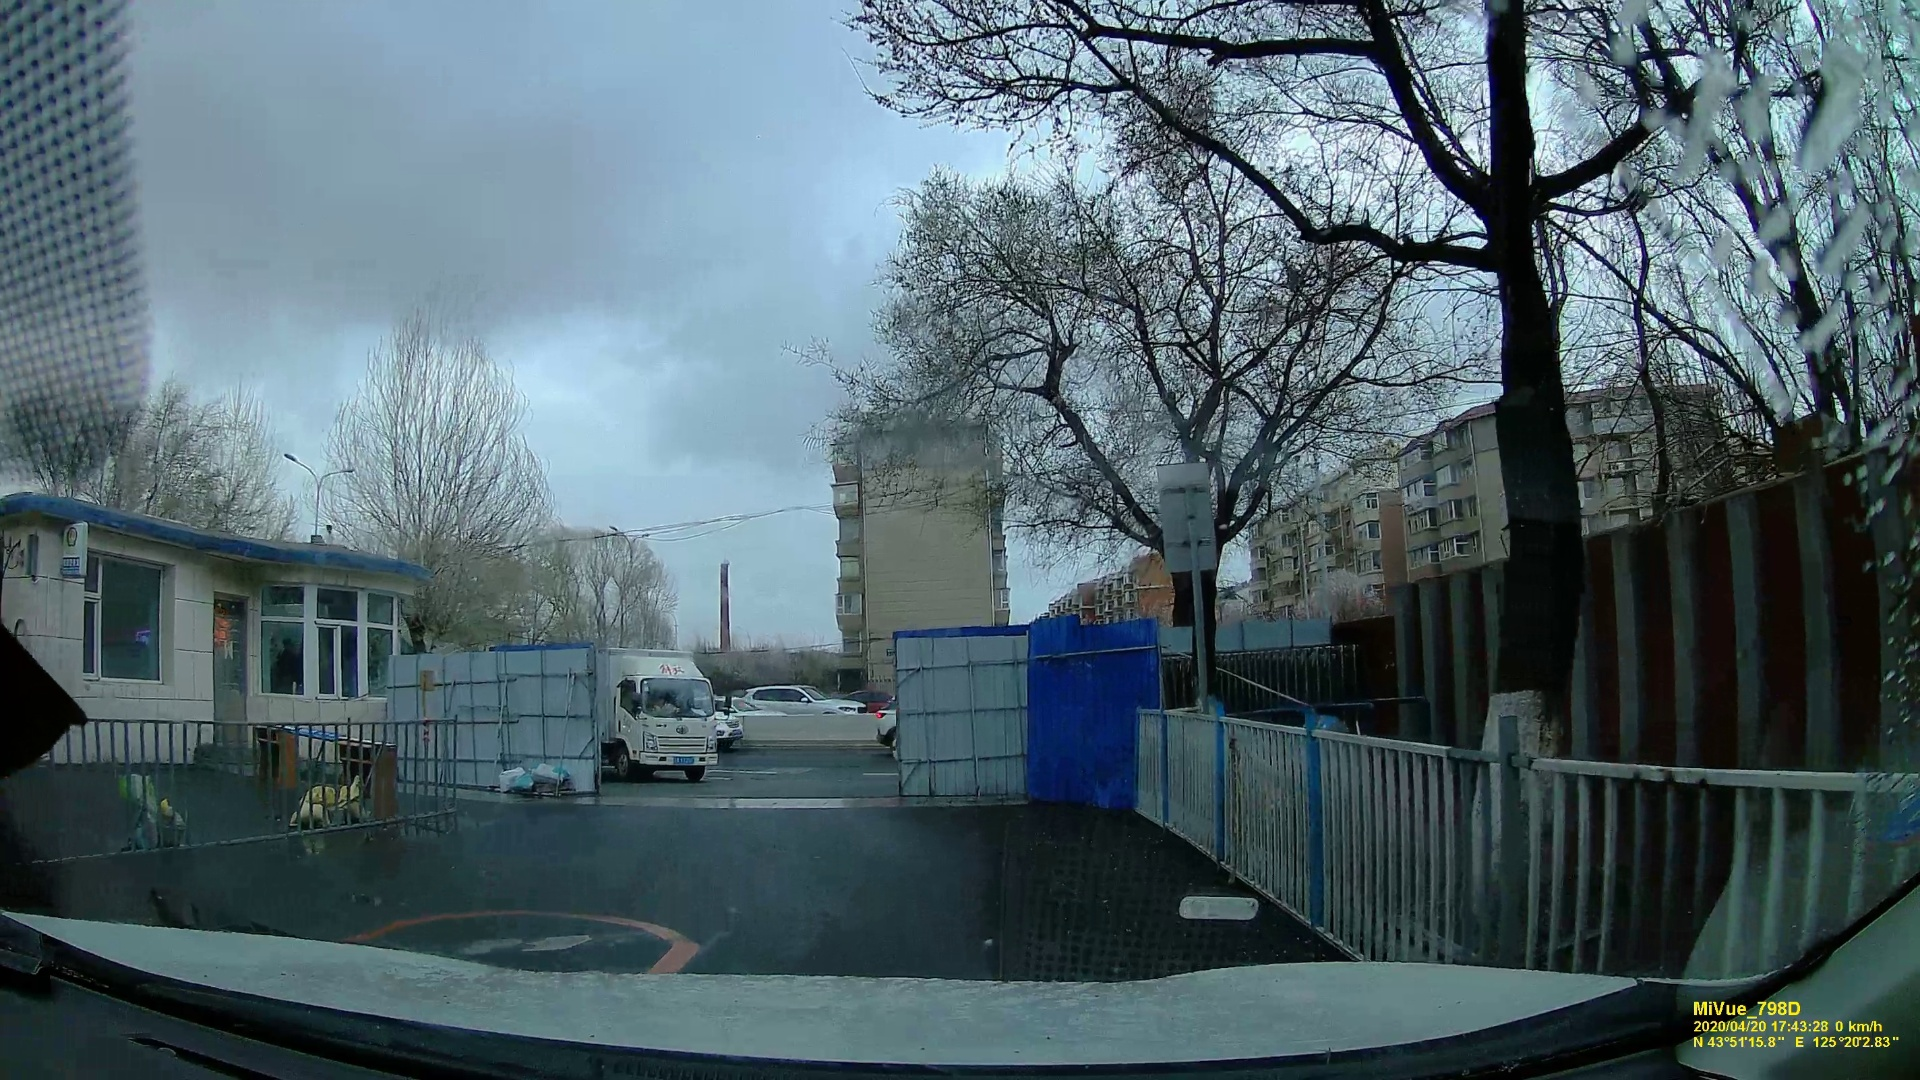truck: (601, 647, 717, 782)
vehicle: (733, 683, 862, 716)
